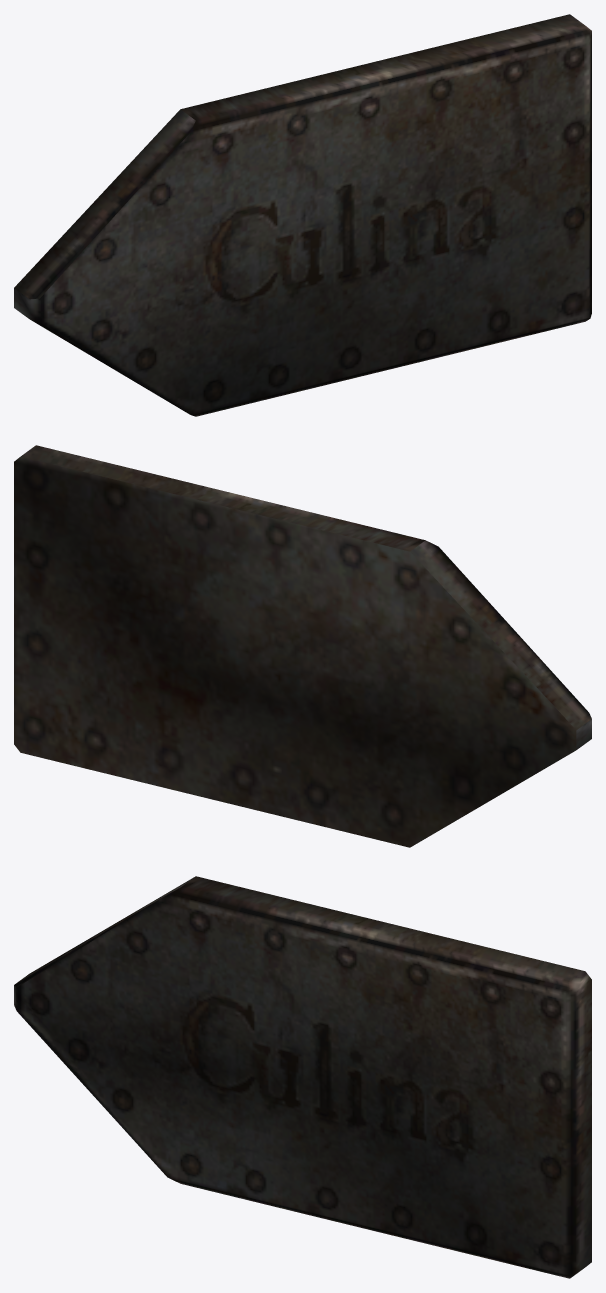
The model's file is sign_kitchen_arrow_left.dae.
3 renders of one model, top to bottom at view 1: azimuth 30°, elevation 25°; view 2: azimuth 150°, elevation 25°; view 3: azimuth 330°, elevation 25°, orthographic.
Parts seen in each view (by area): view 1: Box02; view 2: Box02; view 3: Box02.
Boxes of the visible parts, <box> form: Box02: <box>14,14,591,416</box>; Box02: <box>14,445,591,847</box>; Box02: <box>14,876,591,1278</box>.
Bounding box in the file's own units: 0.6037 × 0.0359 × 0.3038.
